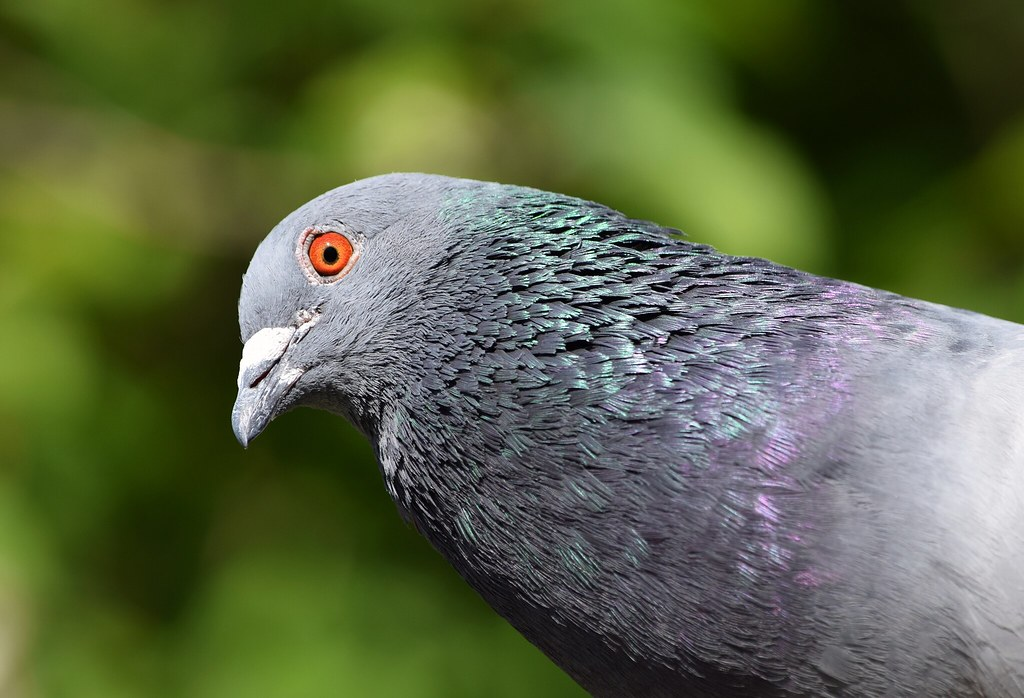pigeon: (218, 167, 1024, 698)
